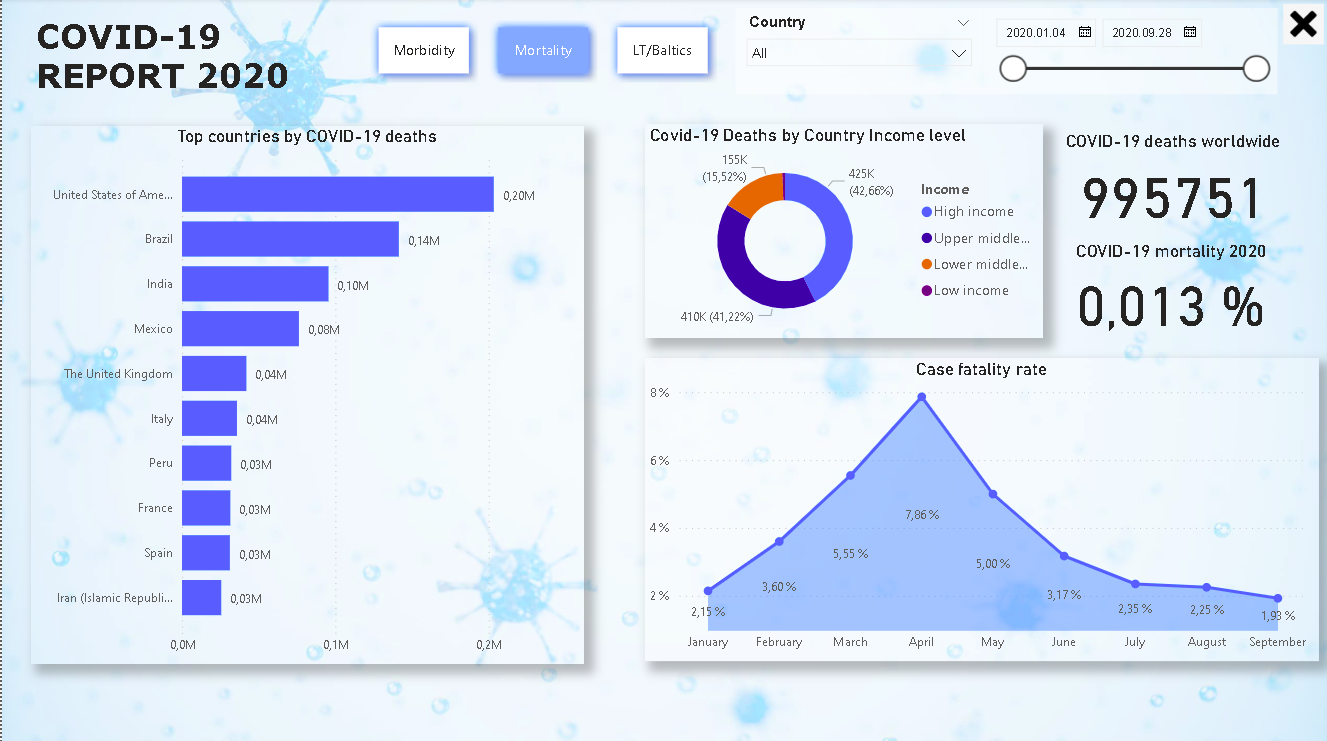

This screenshot's page, from the dashboard's own definition file:
{"tool":"powerbi","page":{"name":"Mortality","canvas":[1280,720],"ordinal":1},"visuals":[{"type":"card","title":"COVID-19 deaths worldwide","fields":{"Values":["Sum(WHO-COVID-19-global-data.New_deaths)"]},"box":[987.5,128.1,284.1,97.5],"z":0},{"type":"card","title":"COVID-19 mortality 2020","fields":{"Values":["Calculated.COVID-19 mortality 2020"]},"box":[985.7,233.6,284.9,94.5],"z":1000},{"type":"barChart","title":"Top countries by COVID-19 deaths","fields":{"Category":["WHO-COVID-19-global-data.Country"],"Y":["Sum(WHO-COVID-19-global-data.New_deaths)"]},"box":[27.9,122.6,533.4,519.5],"z":2000},{"type":"stackedAreaChart","title":"Case fatality rate","fields":{"Category":["WHO-COVID-19-global-data.Date_reported.Variation.Date Hierarchy.Month"],"Y":["Calculated.Case fatality rate"]},"box":[619.8,346.8,650.4,292.5],"z":3000},{"type":"donutChart","title":"Covid-19 Deaths by Country Income level","fields":{"Y":["Sum(WHO-COVID-19-global-data.New_deaths)"],"Category":["WHO-COVID-19-global-data.Income"]},"box":[619.7,121.9,384.6,206.1],"z":4000},{"type":"slicer","fields":{"Values":["WHO-COVID-19-global-data.Country"]},"box":[707.6,9.7,238.2,83.6],"z":5000},{"type":"slicer","fields":{"Values":["WHO-COVID-19-global-data.Date_reported"]},"box":[947.1,9.7,284.1,83.6],"z":6000},{"type":"textbox","box":[27.2,12.4,318.1,100.3],"z":7000},{"type":"pageNavigator","box":[355.2,19.5,335.7,62.7],"z":8000},{"type":"image","box":[1231.3,0,48.7,50.1],"z":9000}]}

Visuals, with their boxes in screenshot pixels (x1, y1, x2, y2), scaled from the page's 1280x720 canvas onto the 1327x741 screenshot:
"COVID-19 deaths worldwide" card: 1024, 132, 1318, 232
"COVID-19 mortality 2020" card: 1022, 240, 1317, 338
"Top countries by COVID-19 deaths" barChart: 29, 126, 582, 661
"Case fatality rate" stackedAreaChart: 643, 357, 1317, 658
"Covid-19 Deaths by Country Income level" donutChart: 642, 125, 1041, 338
slicer - WHO-COVID-19-global-data.Country: 734, 10, 981, 96
slicer - WHO-COVID-19-global-data.Date_reported: 982, 10, 1276, 96
textbox: 28, 13, 358, 116
pageNavigator: 368, 20, 716, 85
image: 1277, 0, 1326, 52
